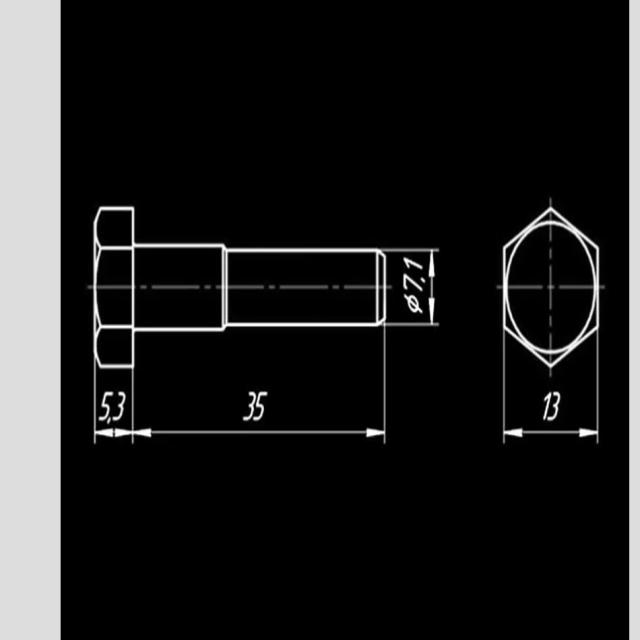marking_line: (134, 425, 384, 445), (504, 425, 597, 440), (96, 425, 128, 441)
numeric: (397, 251, 428, 291), (94, 388, 127, 425), (244, 389, 272, 426), (538, 392, 567, 426)
special_symbol: (402, 292, 426, 315)
